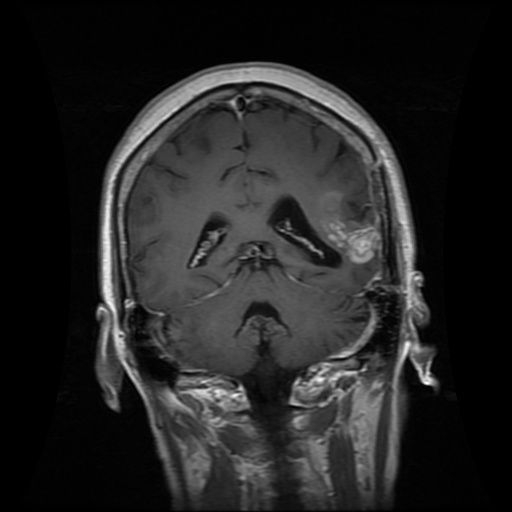glioma: (314, 191, 382, 264)
